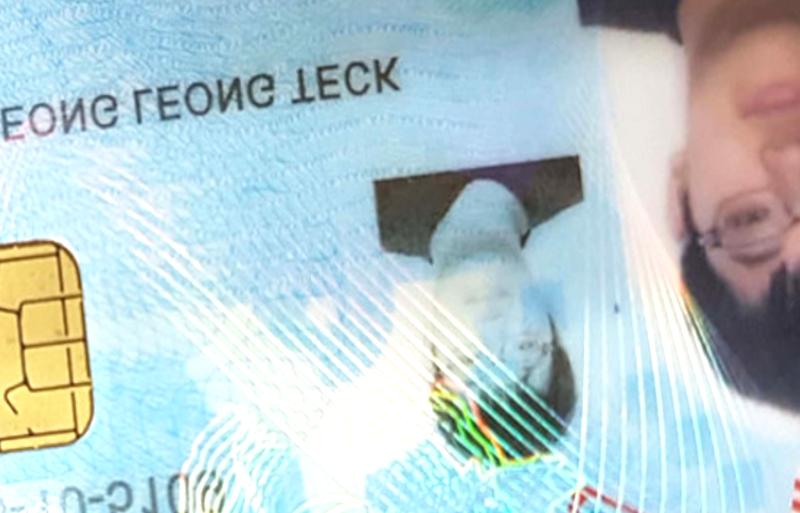hologram: (98, 155, 375, 381)
